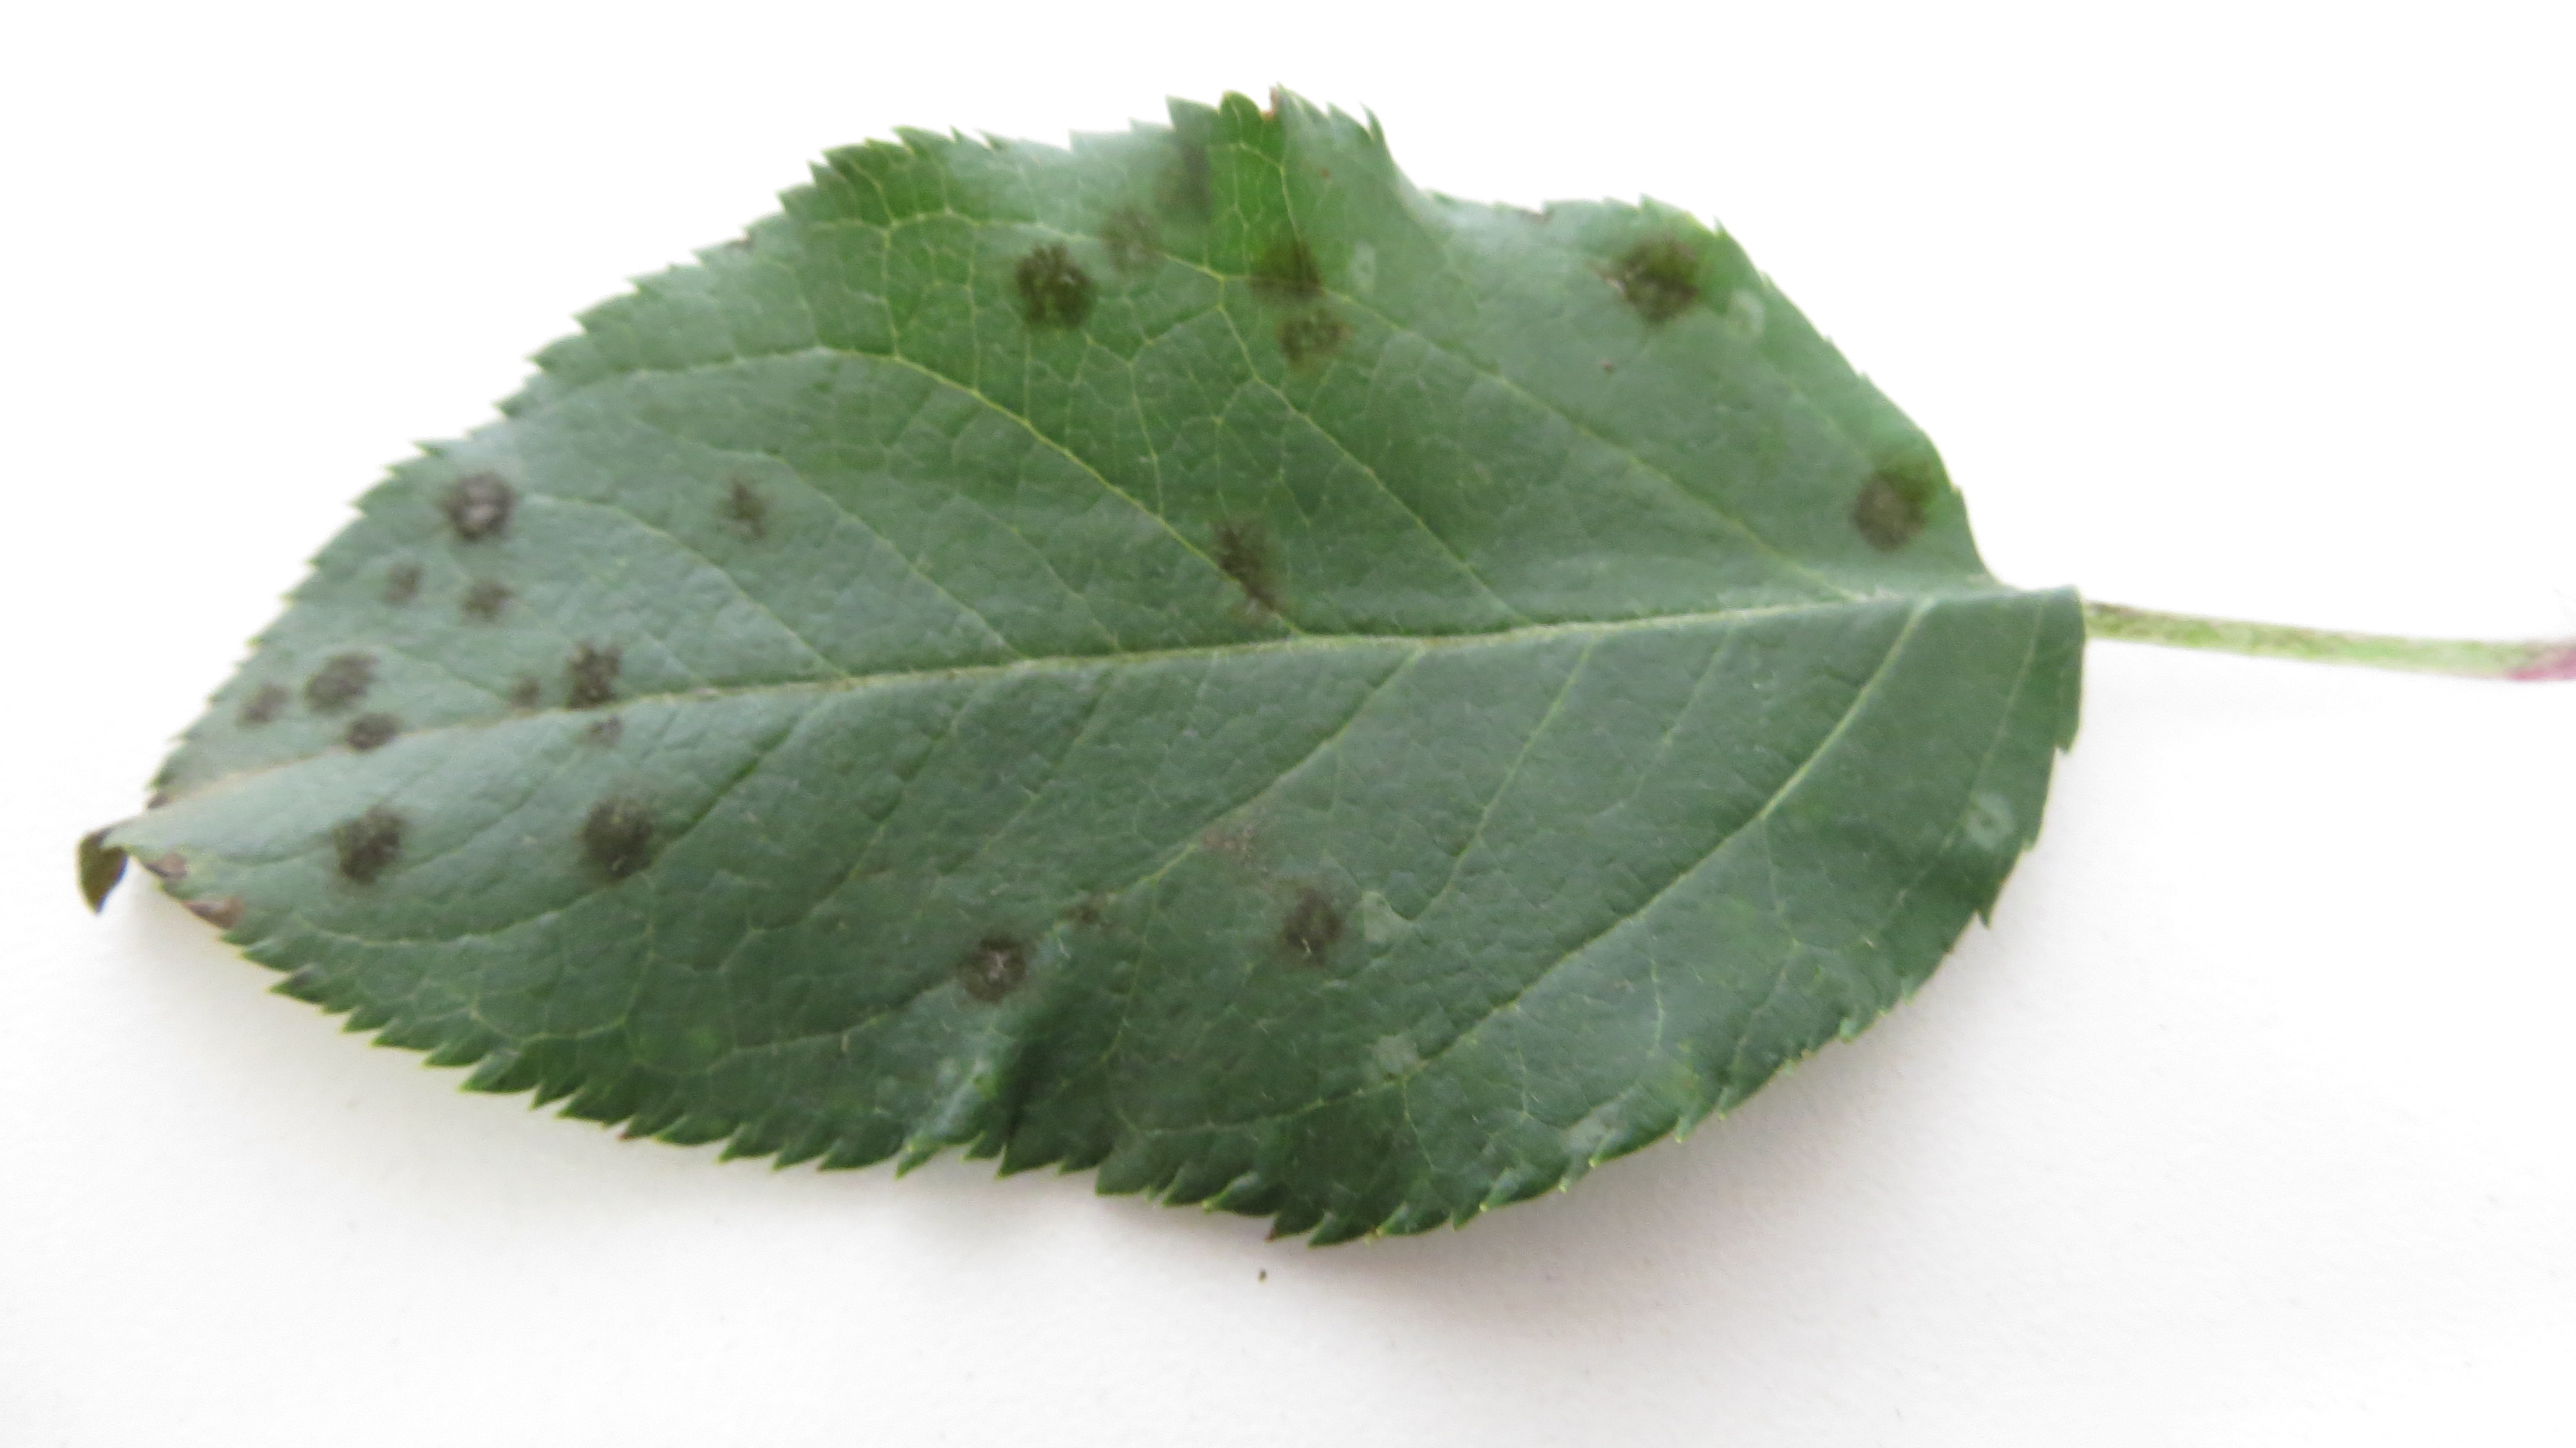sarna: (1594, 212, 1718, 340), (552, 789, 685, 899), (1828, 443, 1941, 566), (1201, 485, 1304, 620), (311, 777, 414, 901), (1261, 857, 1352, 997), (1005, 239, 1113, 352), (1159, 106, 1237, 241), (952, 926, 1056, 1021), (432, 451, 531, 551), (1230, 235, 1332, 319), (1113, 195, 1191, 303), (550, 623, 628, 731), (699, 457, 786, 547), (219, 651, 295, 743), (294, 635, 377, 717), (1265, 294, 1353, 366), (373, 545, 449, 628), (453, 568, 527, 644), (490, 660, 556, 736), (345, 708, 405, 756)
